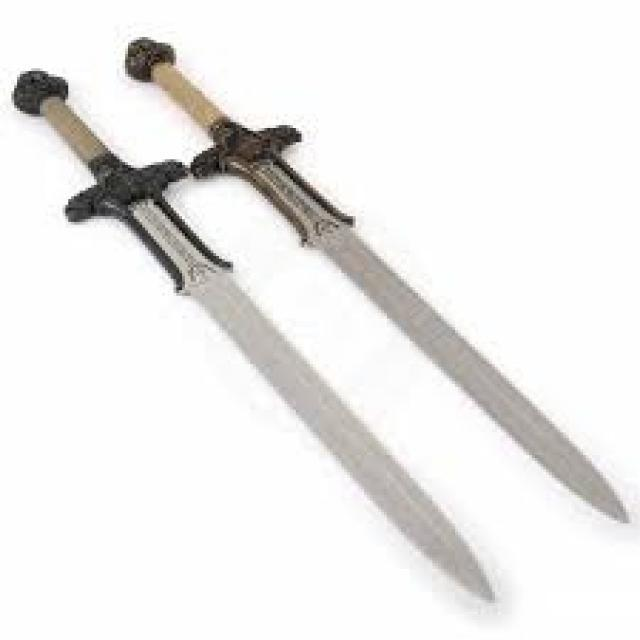sword: (12, 66, 504, 609), (120, 38, 627, 530)
